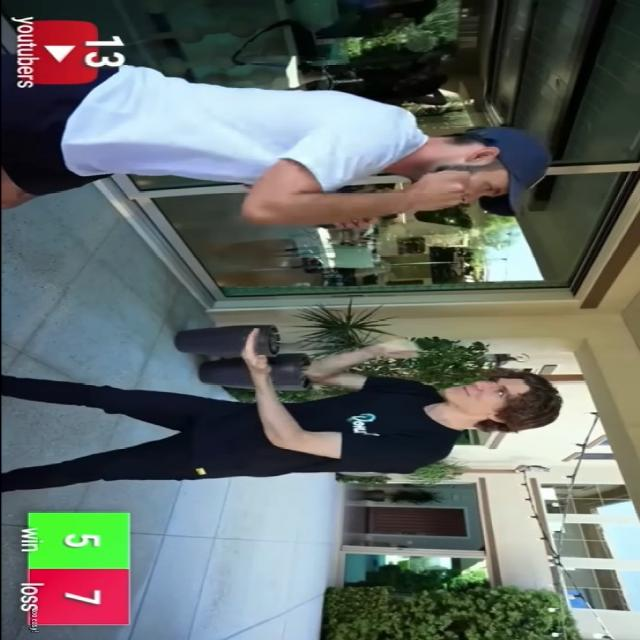Rock: (408, 172, 468, 214), (370, 340, 418, 360)
